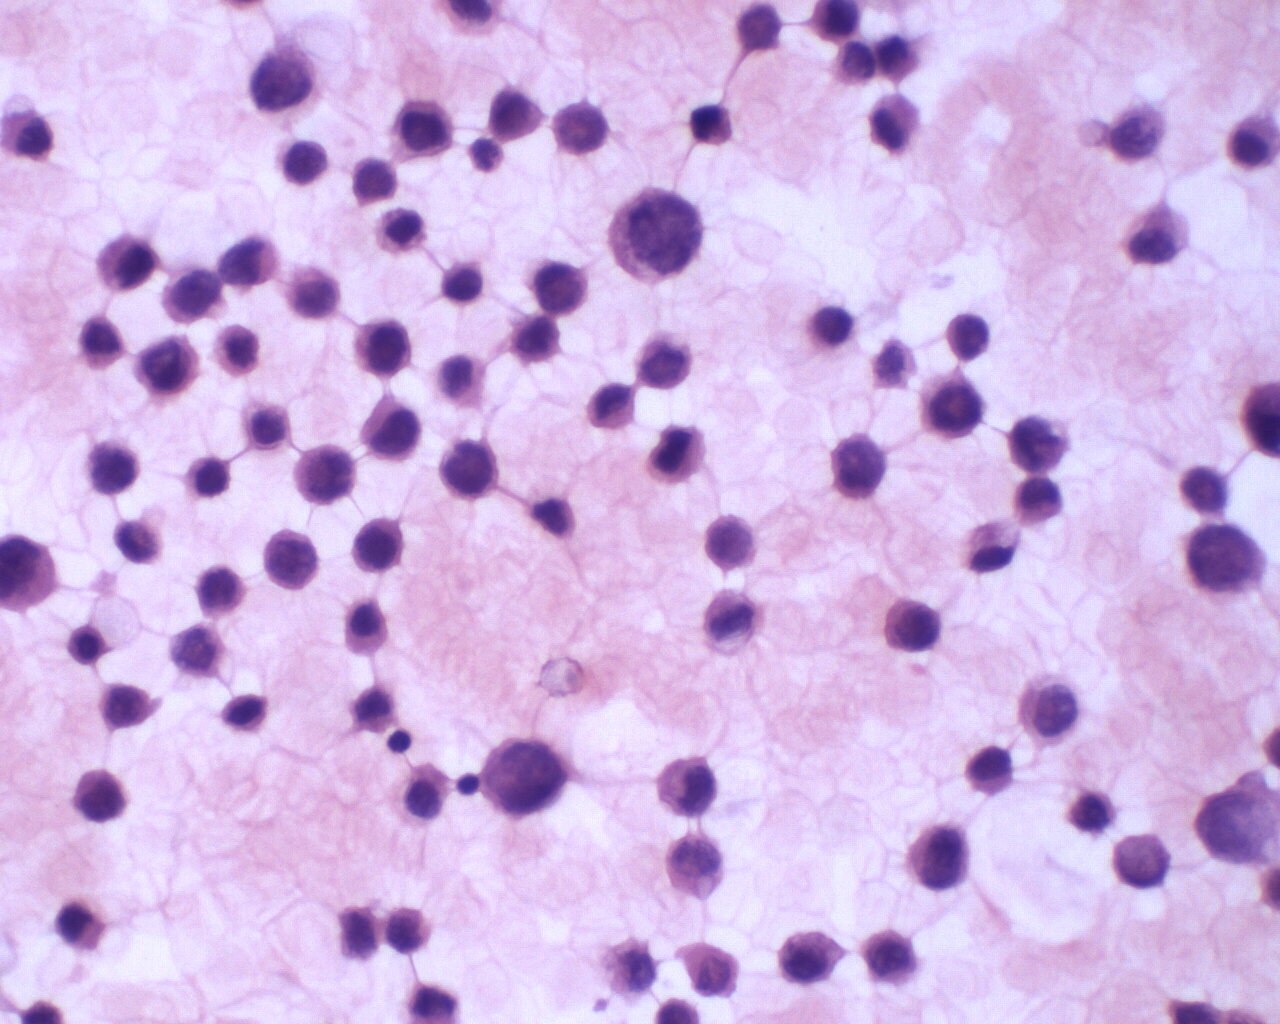ab: (603, 180, 705, 288), (478, 728, 576, 822), (127, 326, 204, 406), (1016, 674, 1087, 749), (906, 822, 976, 897), (480, 82, 554, 152), (829, 428, 895, 505), (920, 370, 986, 442), (360, 393, 429, 461), (347, 309, 414, 379), (258, 522, 323, 595), (93, 228, 160, 295), (440, 435, 506, 503), (387, 95, 456, 160), (293, 437, 357, 506), (775, 925, 844, 988), (550, 98, 611, 162), (881, 596, 945, 657), (347, 511, 408, 576), (856, 928, 921, 986), (530, 258, 591, 318), (98, 676, 160, 736), (194, 561, 250, 626), (637, 333, 698, 389), (71, 769, 127, 827), (349, 155, 400, 210), (946, 311, 996, 362)
meso: (338, 596, 390, 659)
